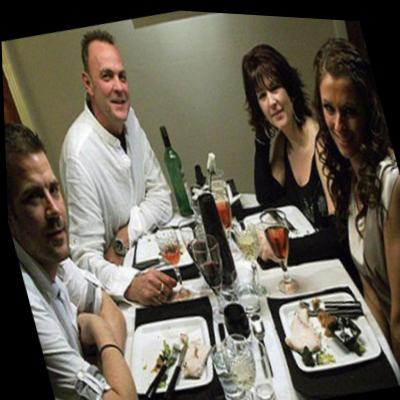happy: (78, 31, 138, 124), (313, 63, 371, 154)
netural: (6, 146, 76, 266), (252, 65, 293, 125)
